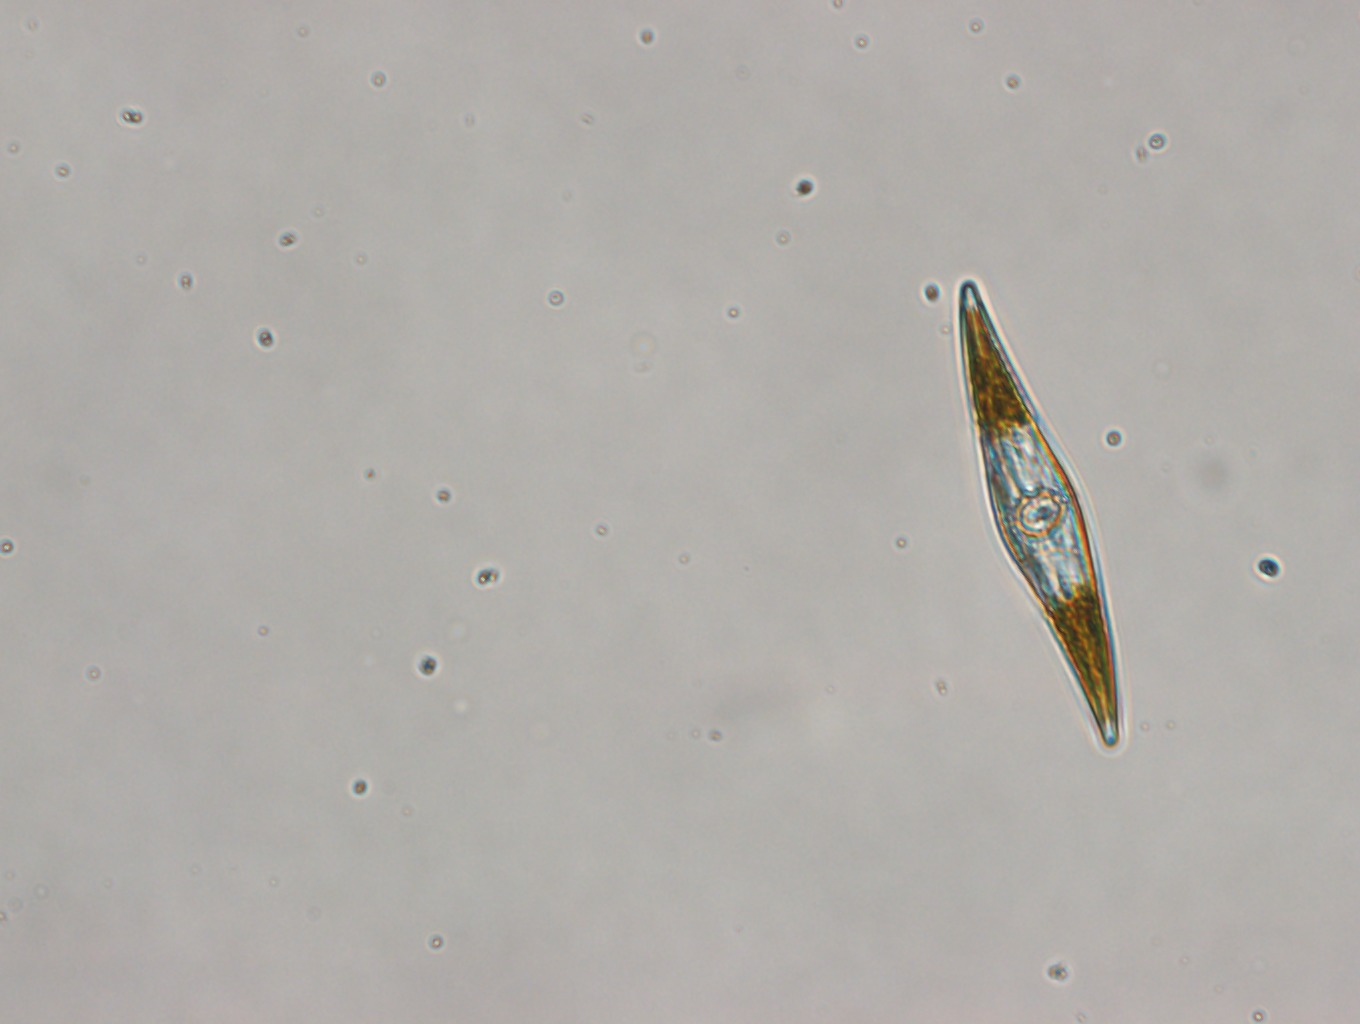pleurosigma pelagicum: (951, 280, 1123, 751)
